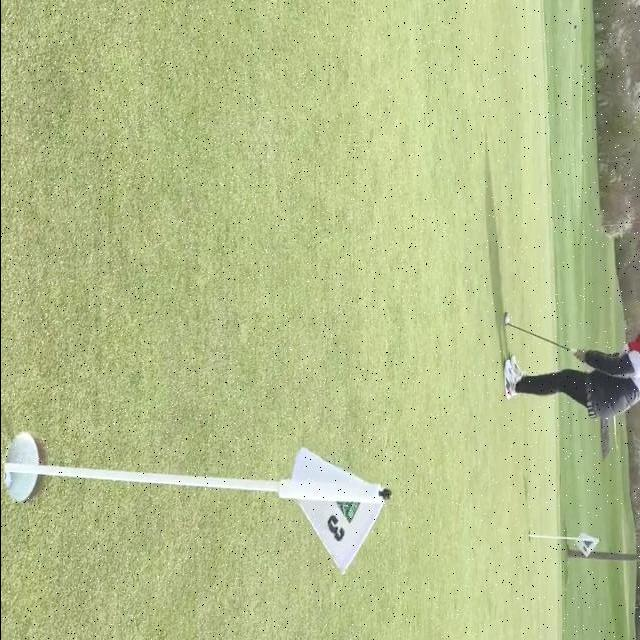golf club-handle: (504, 311, 575, 353)
golf club-head: (504, 311, 508, 326)
